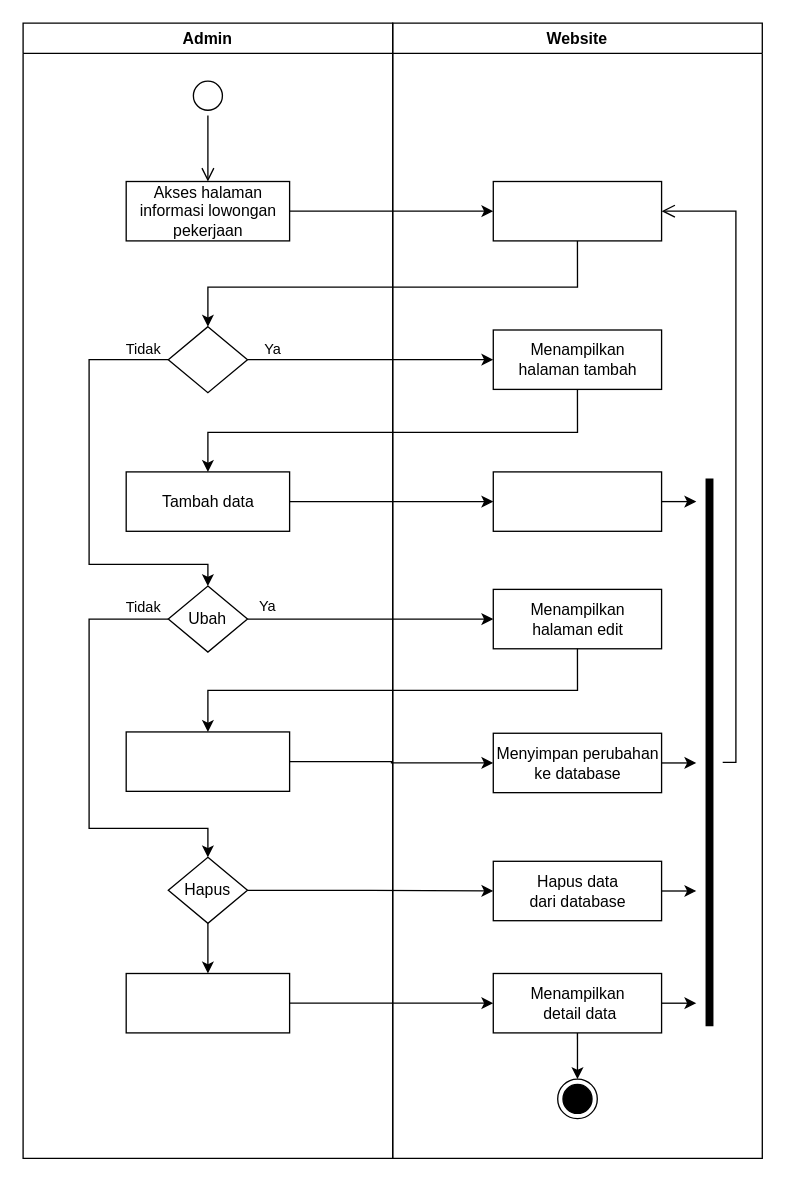
This 785x1181 diagram has some shape labels left out. The shapes that lost their labels are listed below. From the top down, each one's centre as x and y in pixels, then its label:
At (577,210): "Menampilkan halaman informasi lowongan pekerjaan".
At (207,359): "Tambah".
At (577,501): "Proses tambah ke database".
At (207,761): "Ubah data".
At (207,1002): "Lihat detail data".
